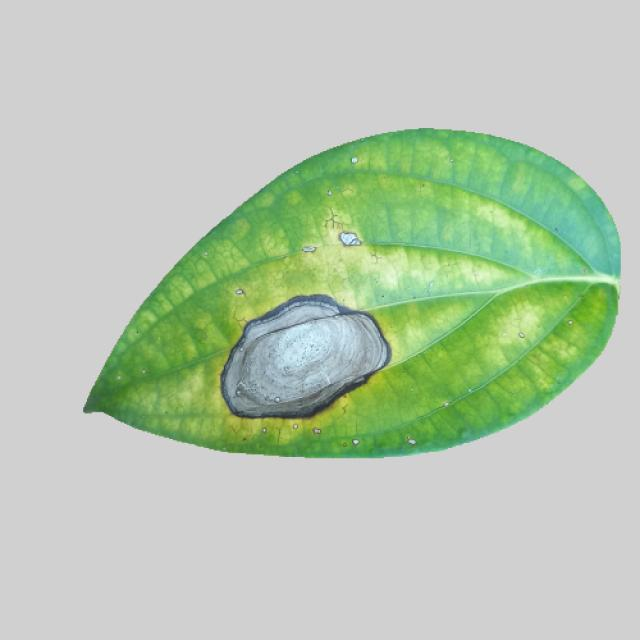leaf-blight: (67, 136, 613, 462)
